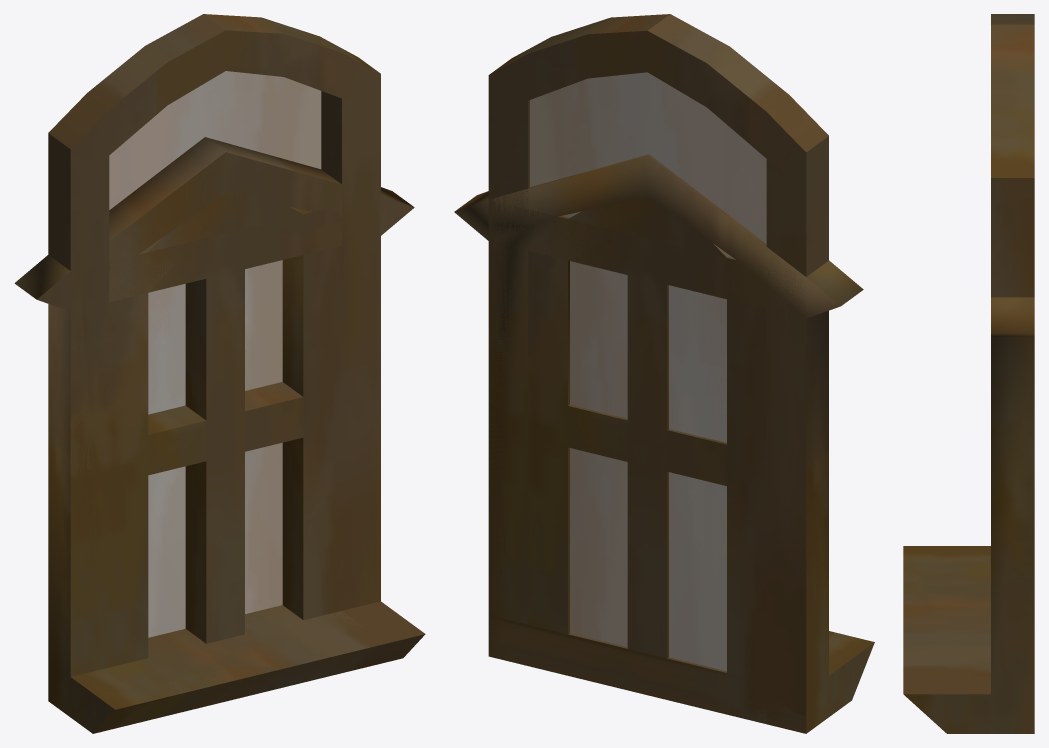
Rendered from PoorDistrictWindowframes_Model 1.fbx.
The picture shows the model from 3 angles, left to right: view 1: azimuth 30°, elevation 25°; view 2: azimuth 150°, elevation 25°; view 3: azimuth 270°, elevation 25°; orthographic projection. The views are drawn at different scales.
Parts seen in each view (by area): view 1: Windowframe1, Windowframe2, Windowframe3; view 2: Windowframe2, Windowframe1, Windowframe3; view 3: Windowframe1, Windowframe2, Windowframe3.
Boxes of the visible parts, x1,y1,x2,y2 form: Windowframe1: (14, 137, 424, 733); Windowframe2: (48, 14, 425, 727); Windowframe3: (70, 192, 365, 691); Windowframe2: (488, 14, 845, 725); Windowframe1: (454, 154, 874, 733); Windowframe3: (492, 197, 834, 724); Windowframe1: (903, 297, 1034, 733); Windowframe2: (903, 14, 1034, 694); Windowframe3: (903, 571, 959, 633).
Bounding box in the file's own units: 97.5 × 160 × 30.
